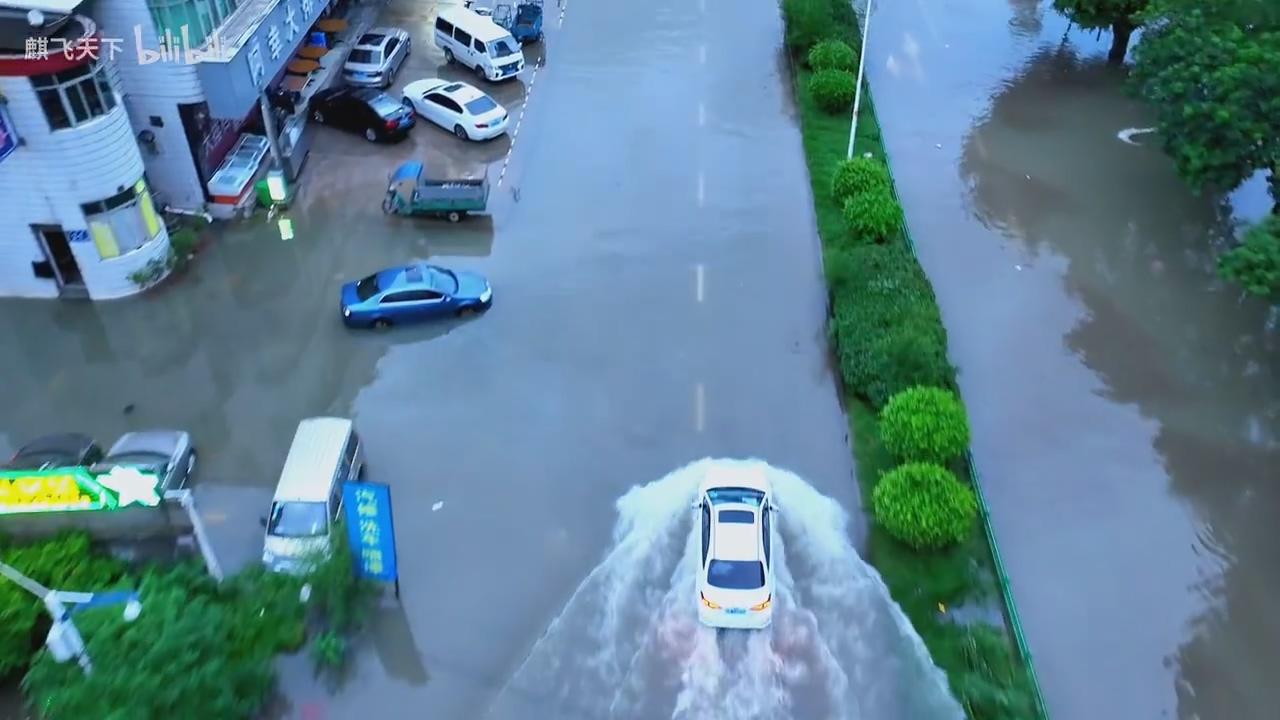puddle: (324, 128, 858, 720), (918, 154, 1241, 646)
